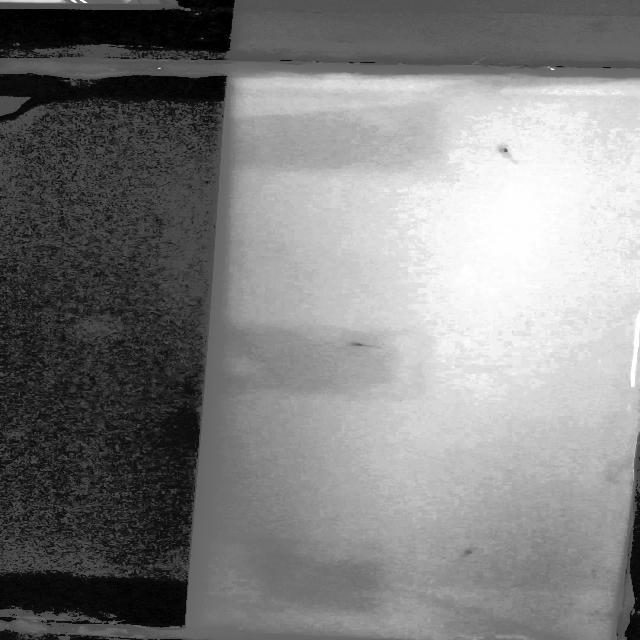shrimp: (348, 339, 391, 353), (497, 142, 520, 162), (456, 549, 480, 561)
